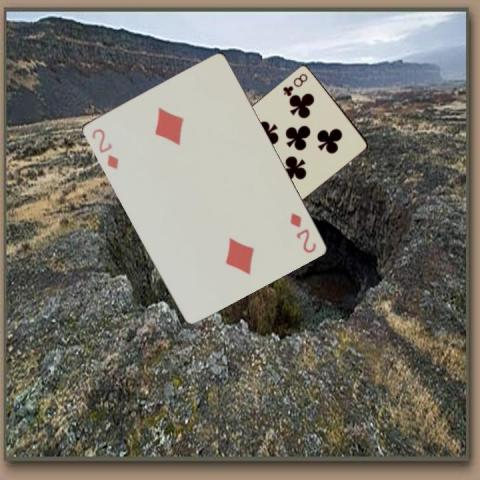2d: (88, 125, 120, 170), (287, 209, 317, 255)
8c: (280, 70, 309, 97)
